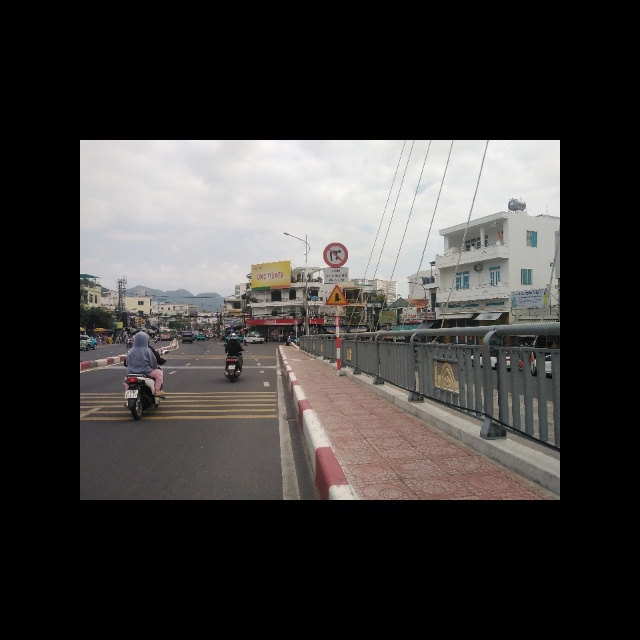Cấm quay đầu và rẽ phải: (322, 242, 348, 268)
Giao nhau với đường không ưu tiên: (326, 284, 349, 306)
